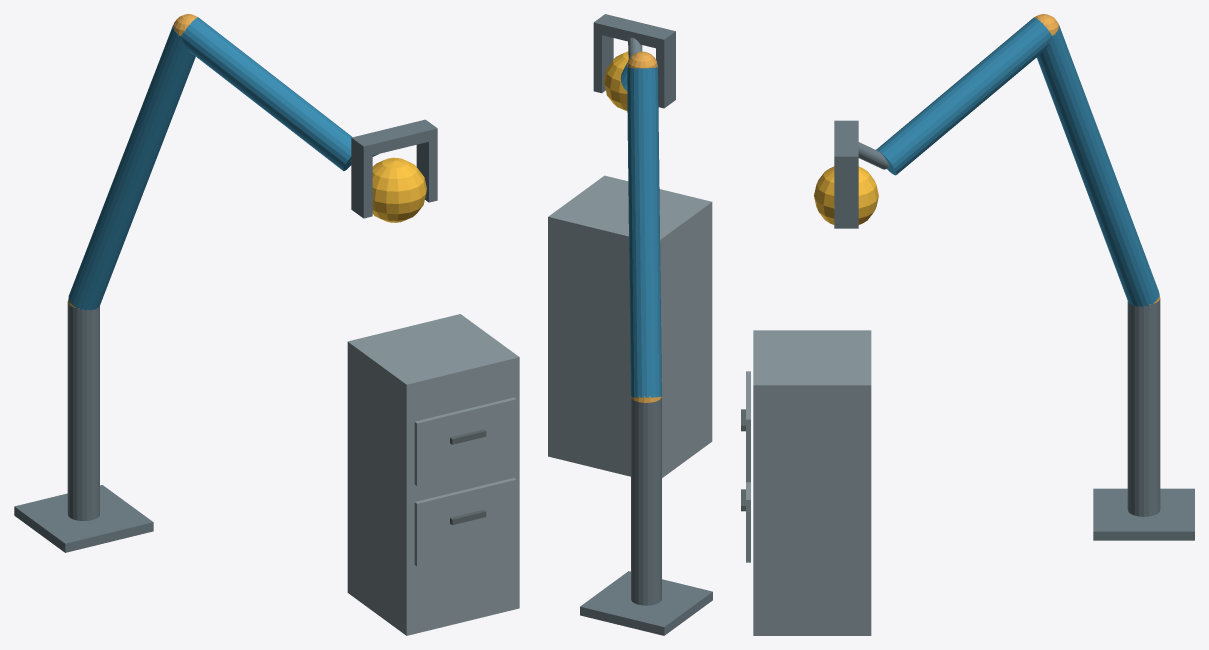
3 views of the same model, side by side, from view 1: azimuth 30°, elevation 25°; view 2: azimuth 150°, elevation 25°; view 3: azimuth 270°, elevation 25° (orthographic). The views are drawn at different scales.
Parts seen in each view (by area): view 1: cabinet_1 body, moving link 1, fixed post, moving link 2, cabinet_1 drawer front.001, cabinet_1 drawer front, pedestal, ball ball_1, gripper bridge, gripper finger -1, gripper finger 1; view 2: cabinet_1 body, moving link 1, fixed post, pedestal, gripper bridge, gripper finger -1, ball ball_1, gripper finger 1, joint 2; view 3: cabinet_1 body, moving link 1, fixed post, moving link 2, pedestal, ball ball_1, gripper finger 1, gripper bridge.
Part boxes in pixels (left/top/right/bottom): cabinet_1 body: left=347, top=314, right=519, bottom=635; moving link 1: left=68, top=24, right=195, bottom=310; fixed post: left=67, top=301, right=99, bottom=520; moving link 2: left=181, top=17, right=352, bottom=170; cabinet_1 drawer front.001: left=414, top=397, right=516, bottom=486; cabinet_1 drawer front: left=414, top=478, right=516, bottom=566; pedestal: left=14, top=485, right=153, bottom=552; ball ball_1: left=372, top=157, right=426, bottom=222; gripper bridge: left=351, top=119, right=437, bottom=157; gripper finger -1: left=351, top=149, right=372, bottom=218; gripper finger 1: left=416, top=139, right=437, bottom=202; cabinet_1 body: left=548, top=175, right=712, bottom=477; moving link 1: left=627, top=67, right=661, bottom=397; fixed post: left=631, top=396, right=661, bottom=605; pedestal: left=580, top=571, right=712, bottom=635; gripper bridge: left=593, top=14, right=675, bottom=50; gripper finger -1: left=656, top=42, right=675, bottom=108; ball ball_1: left=604, top=51, right=628, bottom=110; gripper finger 1: left=593, top=33, right=613, bottom=93; joint 2: left=627, top=51, right=657, bottom=68; cabinet_1 body: left=753, top=330, right=871, bottom=635; moving link 1: left=1036, top=24, right=1159, bottom=306; fixed post: left=1127, top=299, right=1160, bottom=516; moving link 2: left=876, top=17, right=1052, bottom=175; pedestal: left=1093, top=488, right=1194, bottom=540; ball ball_1: left=814, top=166, right=878, bottom=224; gripper finger 1: left=834, top=167, right=858, bottom=228; gripper bridge: left=834, top=120, right=858, bottom=167.
Size of the model in its own units: 0.8043 by 1.44 by 1.12.
